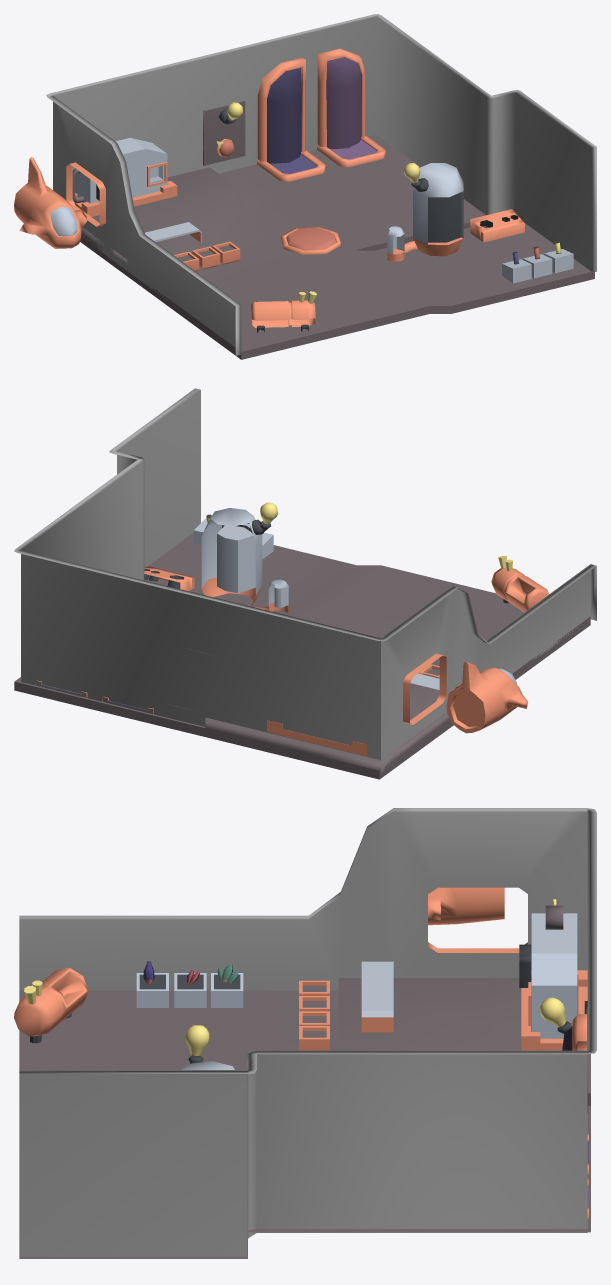
File: Map.fbx
3 renders of one model, top to bottom at view 1: azimuth 30°, elevation 25°; view 2: azimuth 150°, elevation 25°; view 3: azimuth 270°, elevation 25°, orthographic. The views are drawn at different scales.
Parts seen in each view (by area): view 1: polySurface9, Floon, polySurface10, pCube6, AnimalGenerator:pCylinder4, polySurface18, polySurface17, polySurface1, LightSetting:pCube1, polySurface15, FertilizerGenerator:pCylinder1, polySurface16 (+12 smaller); view 2: polySurface9, Floon, polySurface10, AnimalGenerator:pCylinder4, pCube6, FertilizerGenerator:pCylinder1, Cookengine:pCube2, YeneMixer:pCube1; view 3: polySurface9, polySurface10, Floon, polySurface1, FertilizerGenerator:pCylinder1, pCube6, Table:pCube1, Cookengine:pCube2, pCube7, pCube1, SeedBoxTemplate:pCube1, PlantPot3.
Part boxes in pixels (left/top/right/bottom): polySurface9: left=46, top=14, right=596, bottom=271; Floon: left=80, top=135, right=594, bottom=359; polySurface10: left=47, top=96, right=241, bottom=355; pCube6: left=14, top=156, right=87, bottom=248; AnimalGenerator:pCylinder4: left=387, top=163, right=463, bottom=261; polySurface18: left=326, top=57, right=360, bottom=149; polySurface17: left=267, top=67, right=301, bottom=163; polySurface1: left=75, top=137, right=167, bottom=203; LightSetting:pCube1: left=203, top=101, right=245, bottom=165; polySurface15: left=257, top=57, right=305, bottom=161; FertilizerGenerator:pCylinder1: left=251, top=300, right=315, bottom=327; polySurface16: left=317, top=48, right=365, bottom=147; polySurface9: left=14, top=388, right=386, bottom=760; Floon: left=14, top=532, right=590, bottom=779; polySurface10: left=381, top=564, right=596, bottom=771; AnimalGenerator:pCylinder4: left=201, top=508, right=288, bottom=615; pCube6: left=446, top=661, right=527, bottom=733; FertilizerGenerator:pCylinder1: left=491, top=567, right=548, bottom=612; Cookengine:pCube2: left=267, top=720, right=366, bottom=756; YeneMixer:pCube1: left=144, top=566, right=194, bottom=591; polySurface9: left=19, top=808, right=596, bottom=1256; polySurface10: left=19, top=808, right=587, bottom=990; Floon: left=19, top=978, right=590, bottom=1258; polySurface1: left=531, top=913, right=577, bottom=1038; FertilizerGenerator:pCylinder1: left=14, top=967, right=88, bottom=1036; pCube6: left=428, top=887, right=504, bottom=925; Table:pCube1: left=361, top=961, right=393, bottom=1032; Cookengine:pCube2: left=521, top=970, right=587, bottom=1050; pCube7: left=136, top=973, right=168, bottom=1007; pCube1: left=174, top=973, right=206, bottom=1007; SeedBoxTemplate:pCube1: left=211, top=973, right=243, bottom=1007; PlantPot3: left=299, top=1026, right=329, bottom=1050.
Bounding box in the file's own units: 107 × 30.61 × 81.53.
